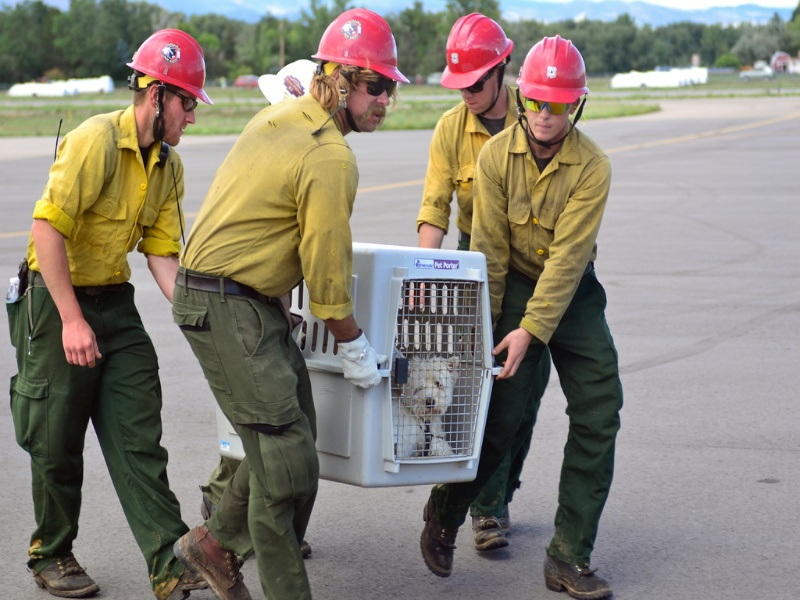Baret: (315, 8, 407, 82), (129, 29, 210, 102), (439, 13, 511, 88), (517, 35, 592, 104)
